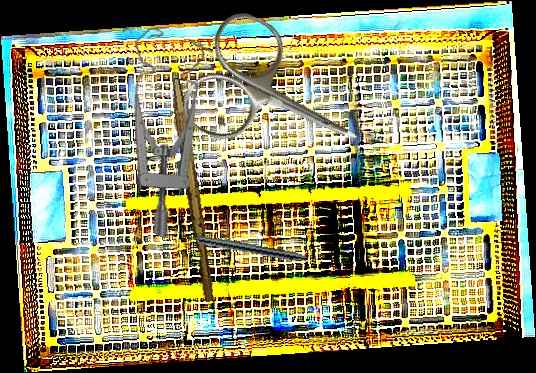Handpiece: (176, 228, 308, 264)
Iris Scissors: (173, 4, 385, 196)
Scalpel Handle: (164, 77, 220, 303)
Speculum: (62, 17, 251, 240)
